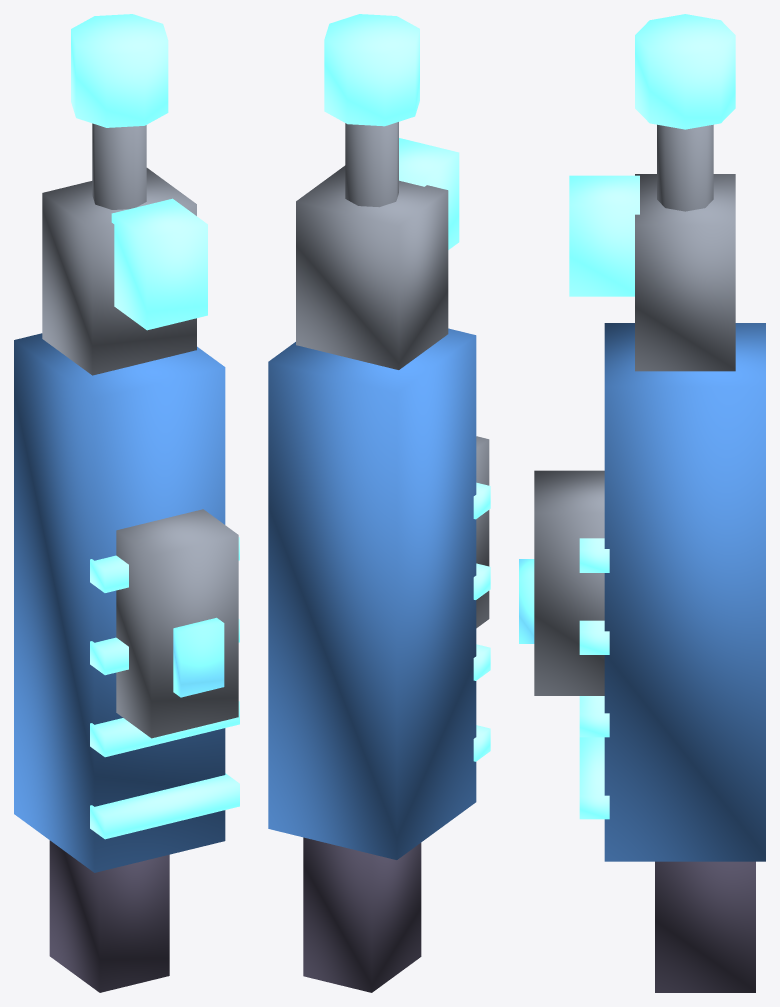
Rendered from blaster_rifle.glb.
3 views of the same model, side by side, from view 1: azimuth 30°, elevation 25°; view 2: azimuth 150°, elevation 25°; view 3: azimuth 270°, elevation 25° (orthographic).
Visible parts, largest first — view 1: SuitBlue, ArmorIron, NeonCyan, SuitDark, HoloBlue; view 2: SuitBlue, ArmorIron, SuitDark, NeonCyan; view 3: SuitBlue, ArmorIron, NeonCyan, SuitDark, HoloBlue.
Boxes of the visible parts, x1,y1,x2,y2 form: SuitBlue: [14, 333, 225, 872]; ArmorIron: [42, 123, 238, 738]; NeonCyan: [71, 14, 239, 839]; SuitDark: [49, 840, 169, 992]; HoloBlue: [173, 617, 224, 697]; SuitBlue: [268, 328, 476, 859]; ArmorIron: [296, 122, 489, 628]; SuitDark: [303, 837, 421, 992]; NeonCyan: [324, 14, 490, 761]; SuitBlue: [604, 323, 765, 861]; ArmorIron: [534, 124, 735, 695]; NeonCyan: [569, 14, 735, 819]; SuitDark: [655, 861, 755, 992]; HoloBlue: [519, 559, 534, 643].
Size of the model in its own units: 0.155 by 1.03 by 0.245.
